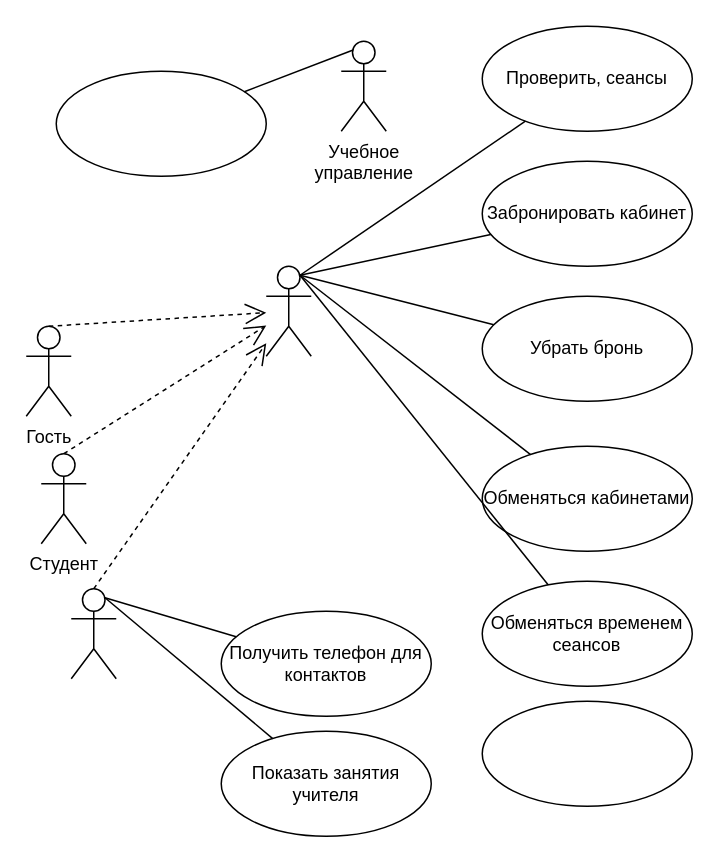
This 719x863 diagram has some shape labels left out. Each missing label, with the box of its shape:
Бронирующий: (265, 265, 311, 356)
Загрузить / обновить учебное расписание: (55, 70, 266, 176)
Сдвинуть сеанс: (481, 700, 692, 806)
Учитель: (70, 587, 116, 679)
